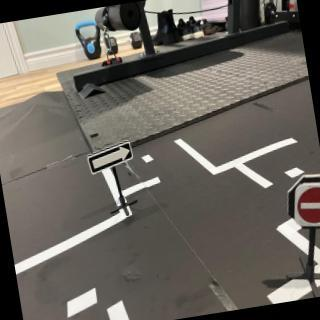sign_noentry: (288, 180, 320, 235)
sign_oneway_right: (86, 138, 138, 176)
